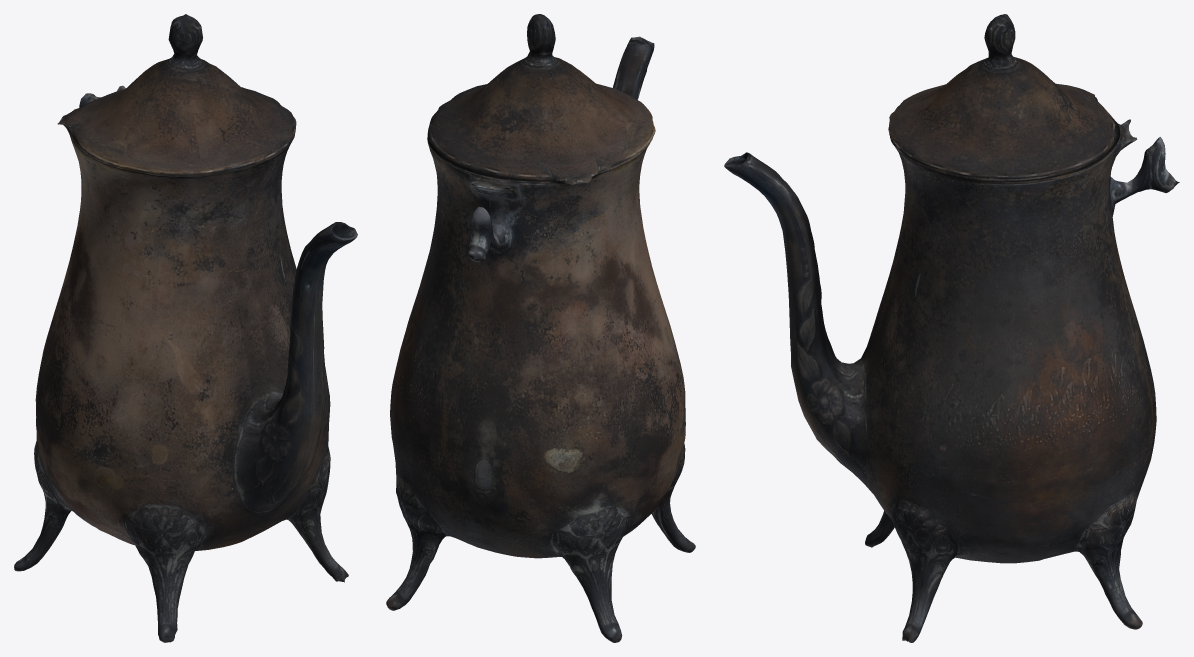
The picture shows the model from 3 angles, left to right: view 1: azimuth 30°, elevation 25°; view 2: azimuth 150°, elevation 25°; view 3: azimuth 270°, elevation 25°; orthographic projection. The views are drawn at different scales.
Visible parts, largest first — view 1: Object_2; view 2: Object_2; view 3: Object_2.
Boxes of the visible parts, x1,y1,x2,y2 form: Object_2: [14, 14, 357, 642]; Object_2: [386, 14, 695, 642]; Object_2: [724, 14, 1179, 642].
Size of the model in its own units: 0.8194 by 1.73 by 1.24.
1 material, 1 textured.
